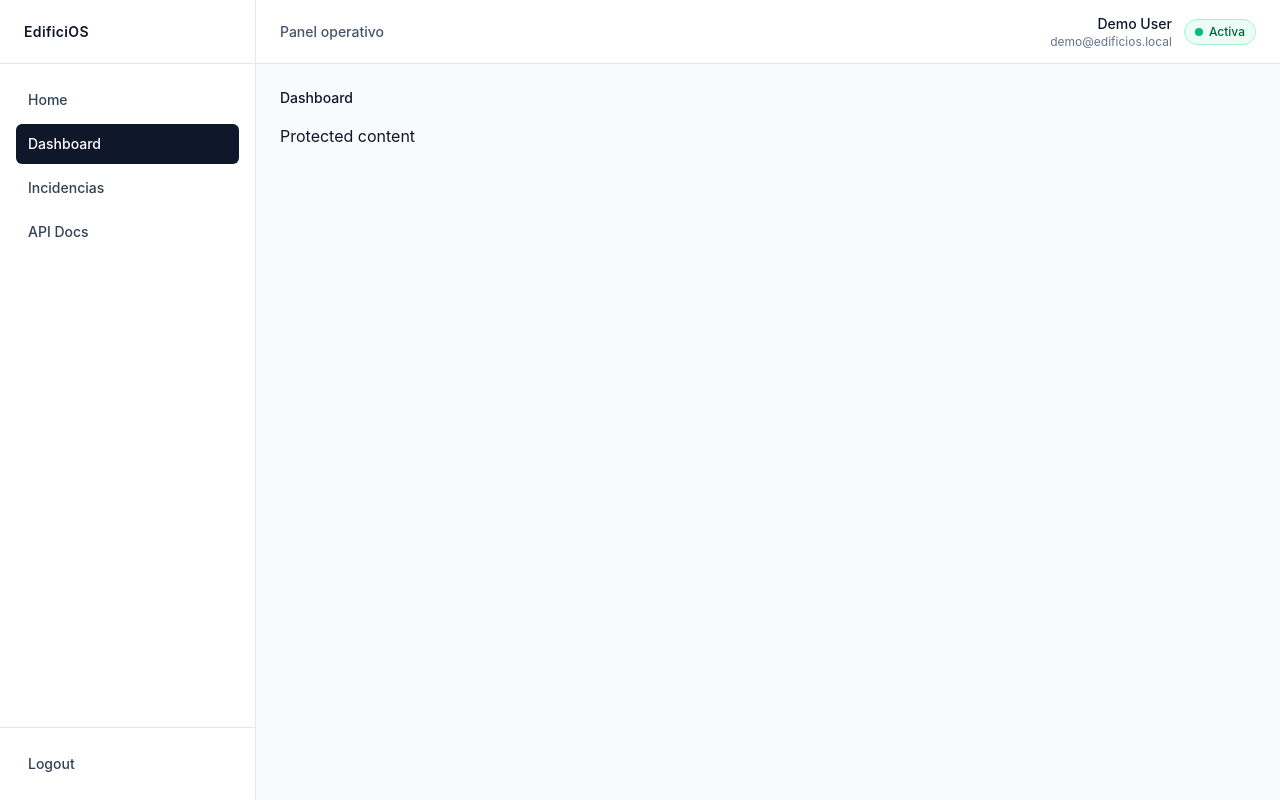
AppLayout › clears session, query cache and redirects to login on logout
Expected: the text "Protected content" is shown, [280,126,415,146]
Step 1. Click the button "Logout" → click(128, 764), box [16,744,239,784]
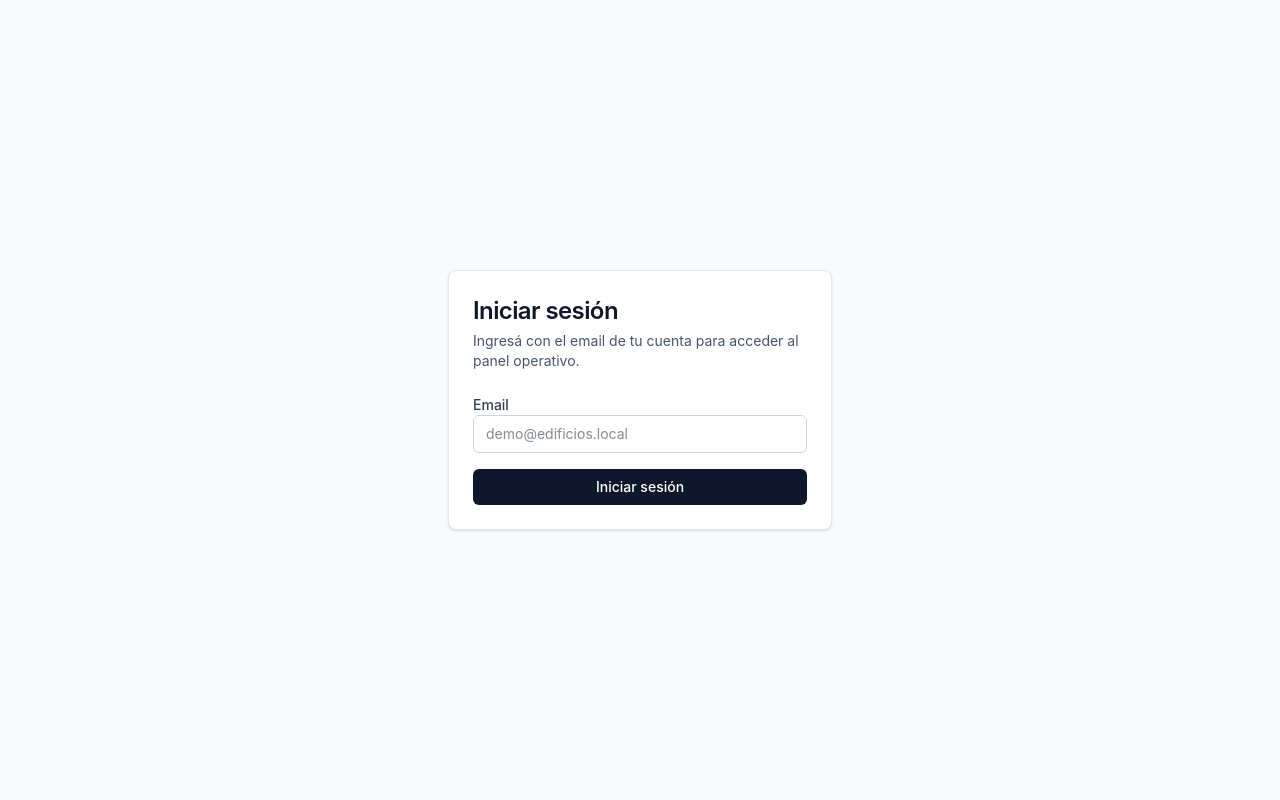
Expected: the field labelled "Email" is shown, [473,415,807,453]
